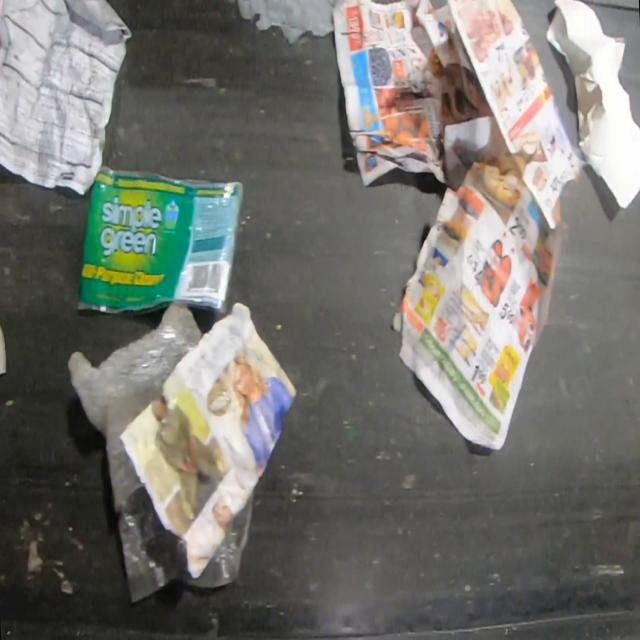soft_plastic: (67, 306, 254, 603), (74, 162, 248, 317)
